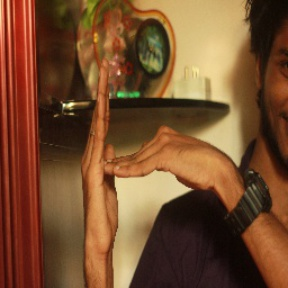Z: (77, 62, 218, 257)
